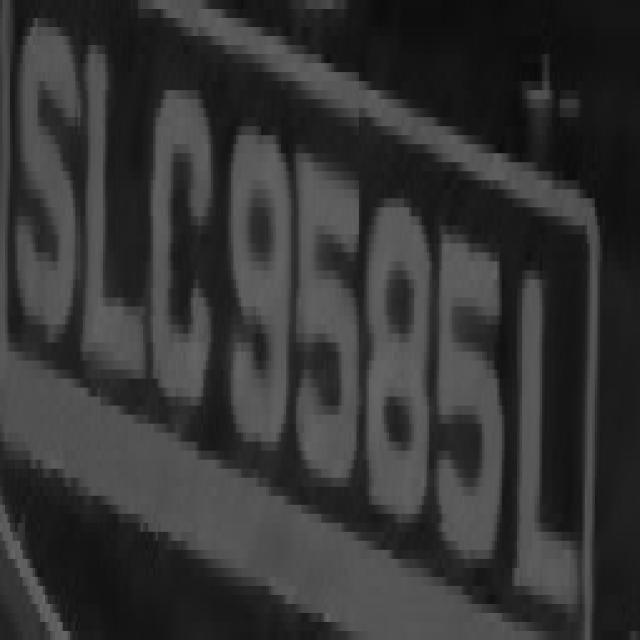5: (434, 180, 507, 622), (291, 117, 367, 514)
8: (364, 144, 437, 559)
9: (224, 63, 278, 496)
C: (143, 45, 218, 433)
L: (514, 225, 590, 640), (86, 18, 146, 406)
S: (20, 0, 83, 406)
